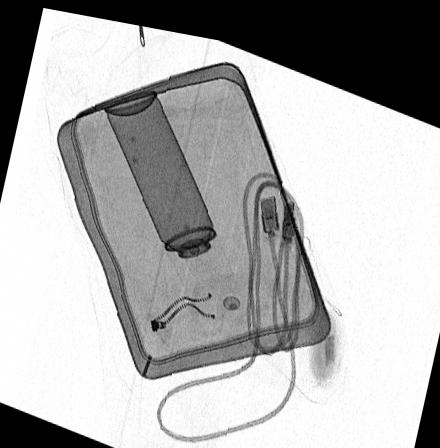Sprayer: (103, 83, 234, 281)
